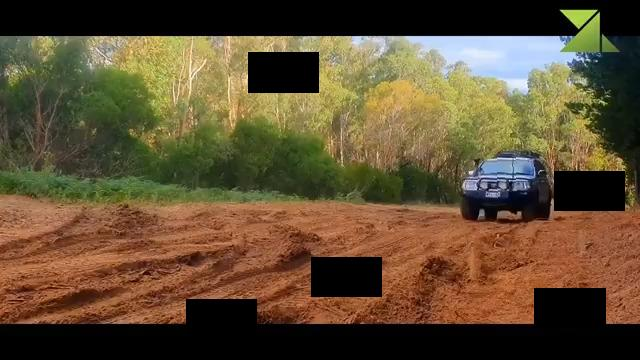MIL_HMMWV: (459, 150, 554, 222)
